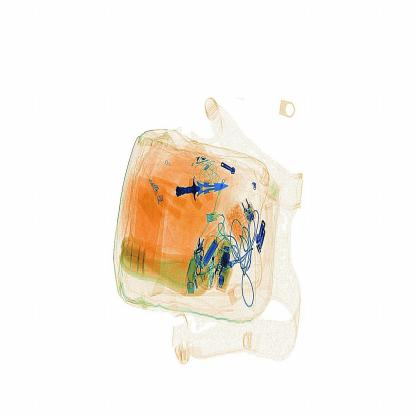wrench: (168, 172, 243, 208)
